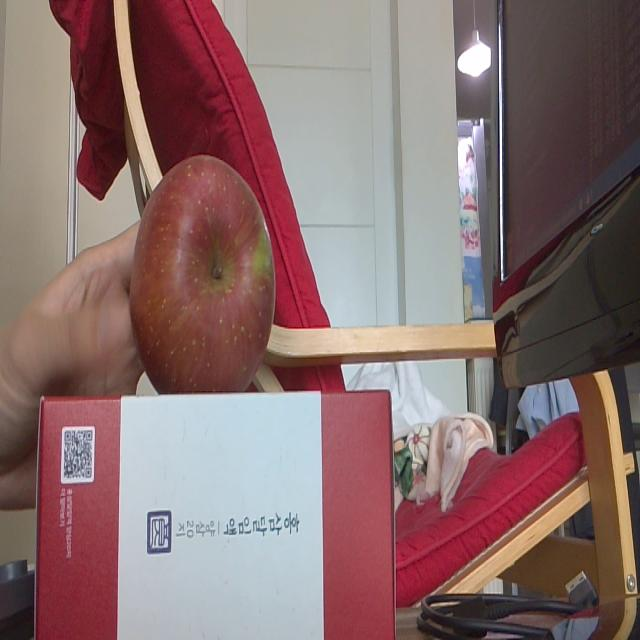apple: (131, 156, 275, 393)
